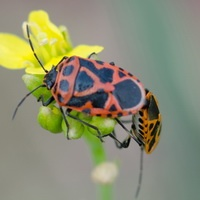insect: (12, 22, 161, 197)
